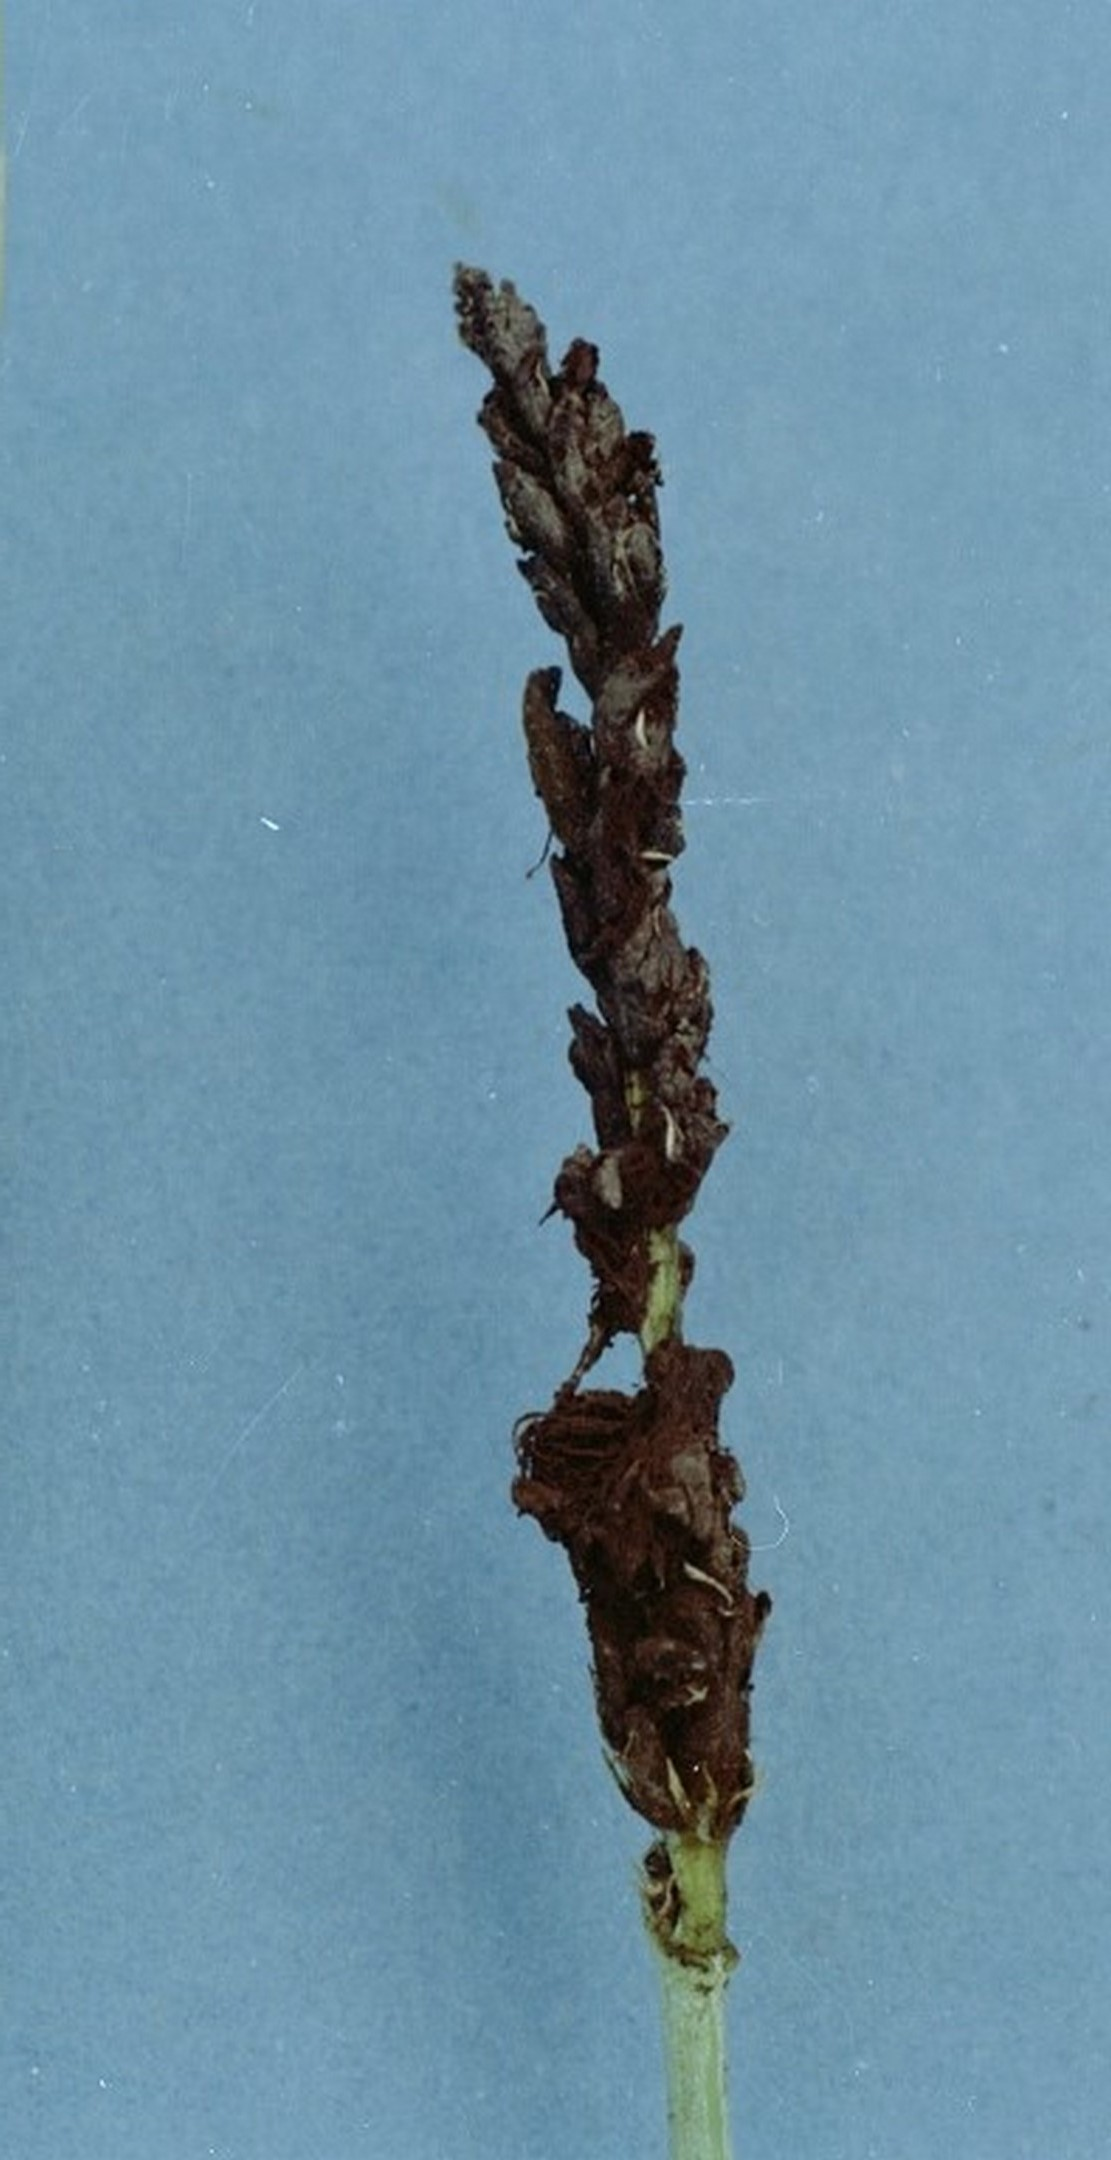Wheat Loose Smut: (419, 245, 869, 1908)
